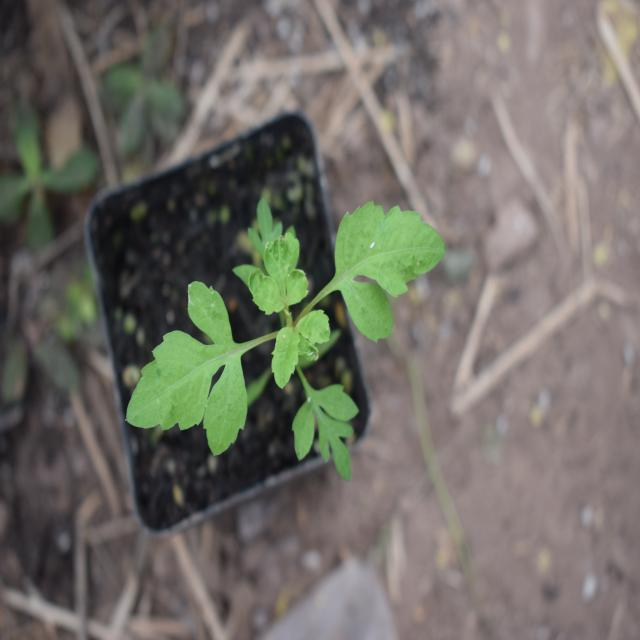Bidens pilosa: (134, 182, 450, 513)
